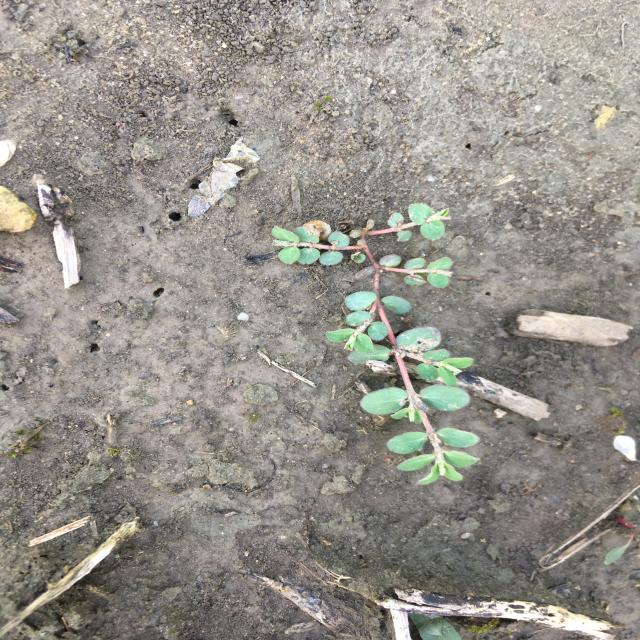SpottedSpurge: (269, 201, 484, 488)
